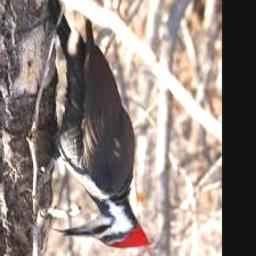Woodpecker: (51, 0, 150, 248)
